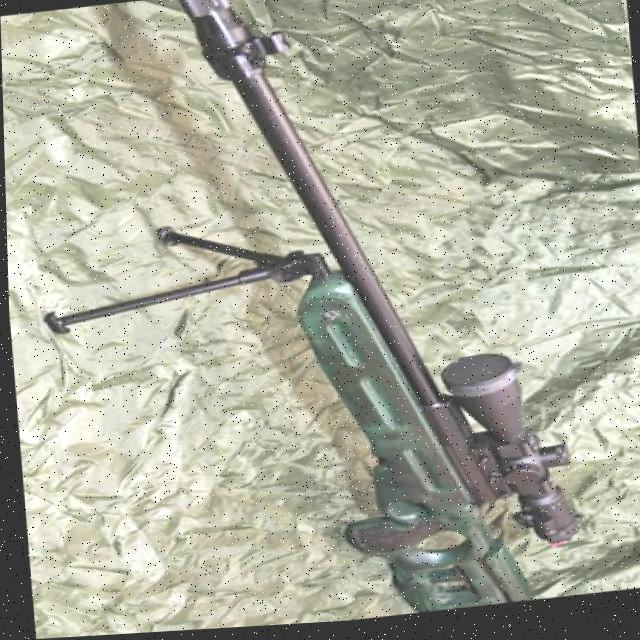firearm: (14, 0, 586, 639)
